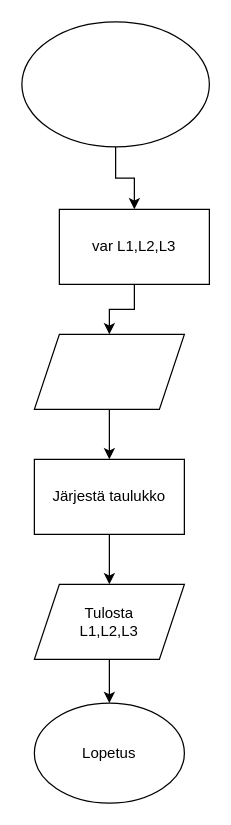
This 231x825 diagram has some shape labels left out. Here are the shapes that lost their labels. From the top down, the centre of each, then its label:
At point 115,84: "Aloitus".
At point 108,371: "pyydä luvut taulukko L1, L2, L3".
